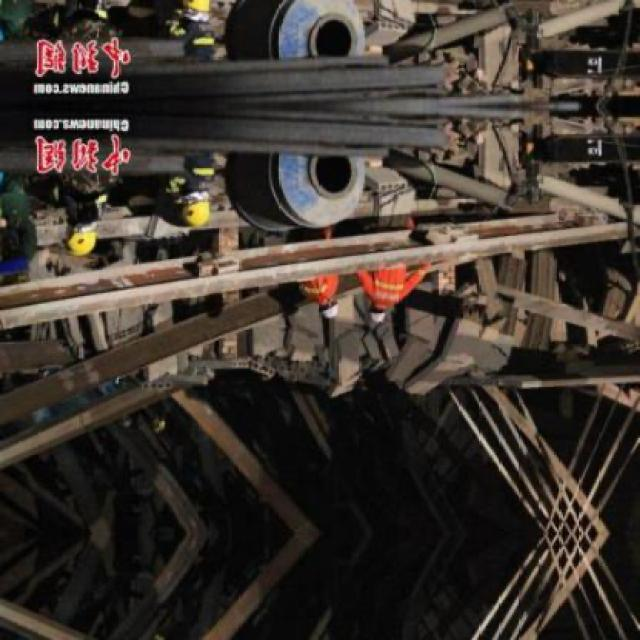con casco: (163, 179, 228, 252), (46, 217, 116, 281), (364, 300, 405, 333)
